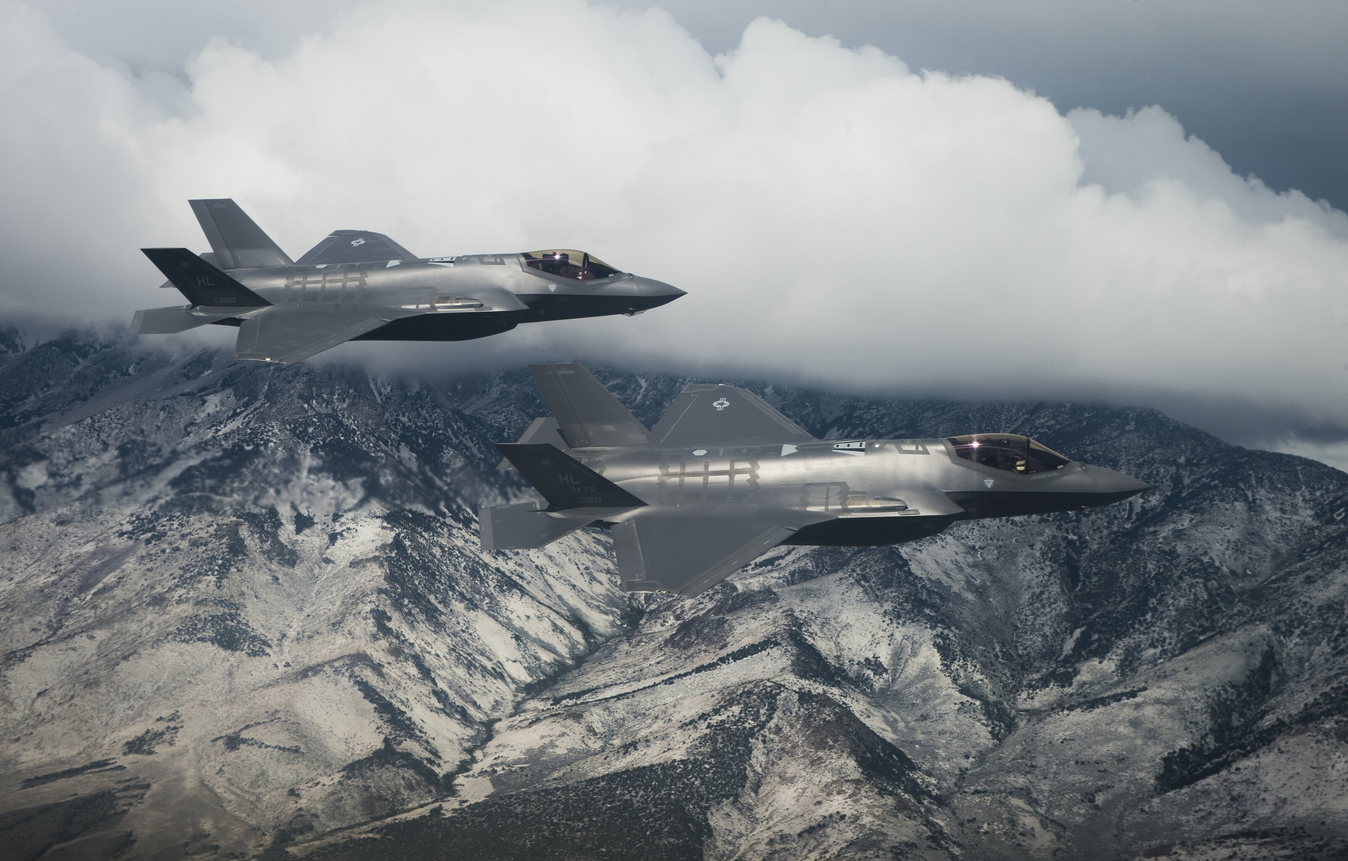F35: (463, 360, 1158, 614), (126, 175, 698, 377)
